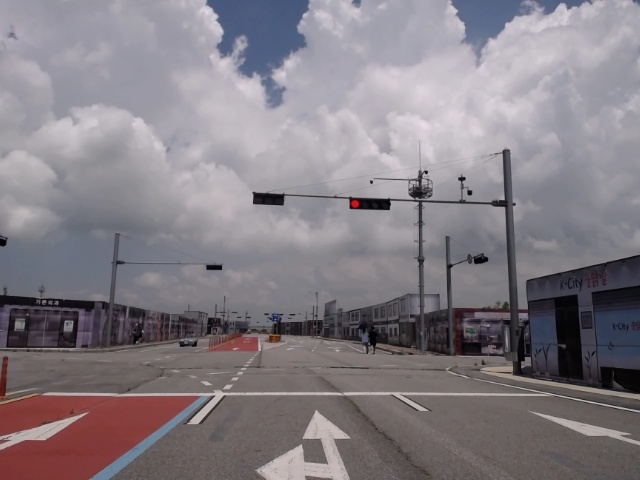red_4: (349, 198, 389, 210)
